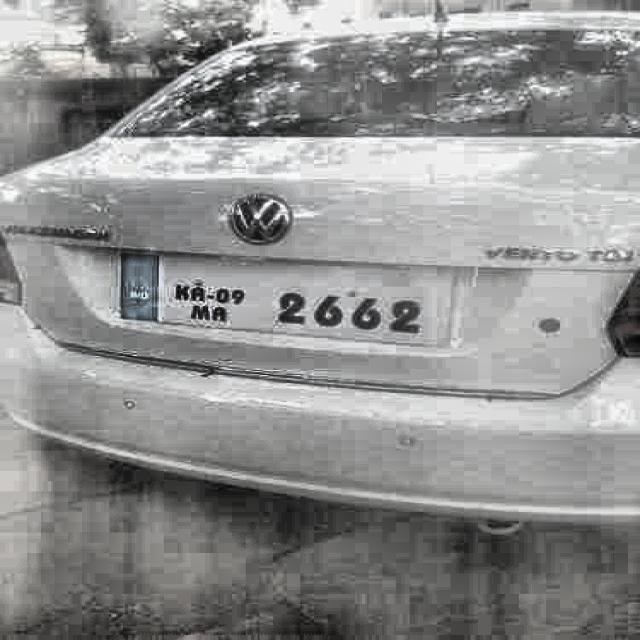license_plate: (120, 255, 444, 346)
